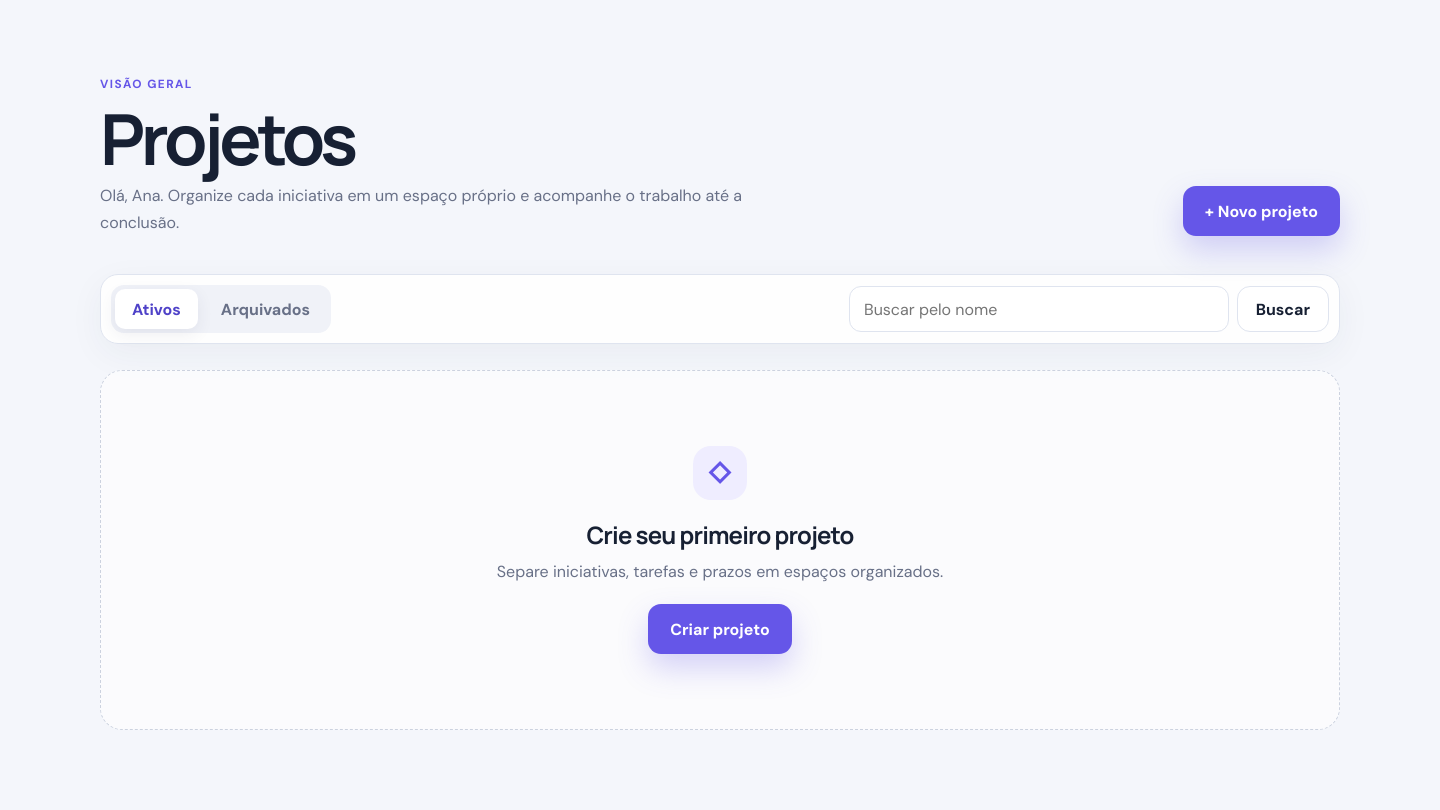
Scenario: ProjectsPage › creates a project and refreshes the list
This screenshot has width=1440, height=810.
Click the button "Criar projeto".
click(720, 630)  # box [648,604,792,654]
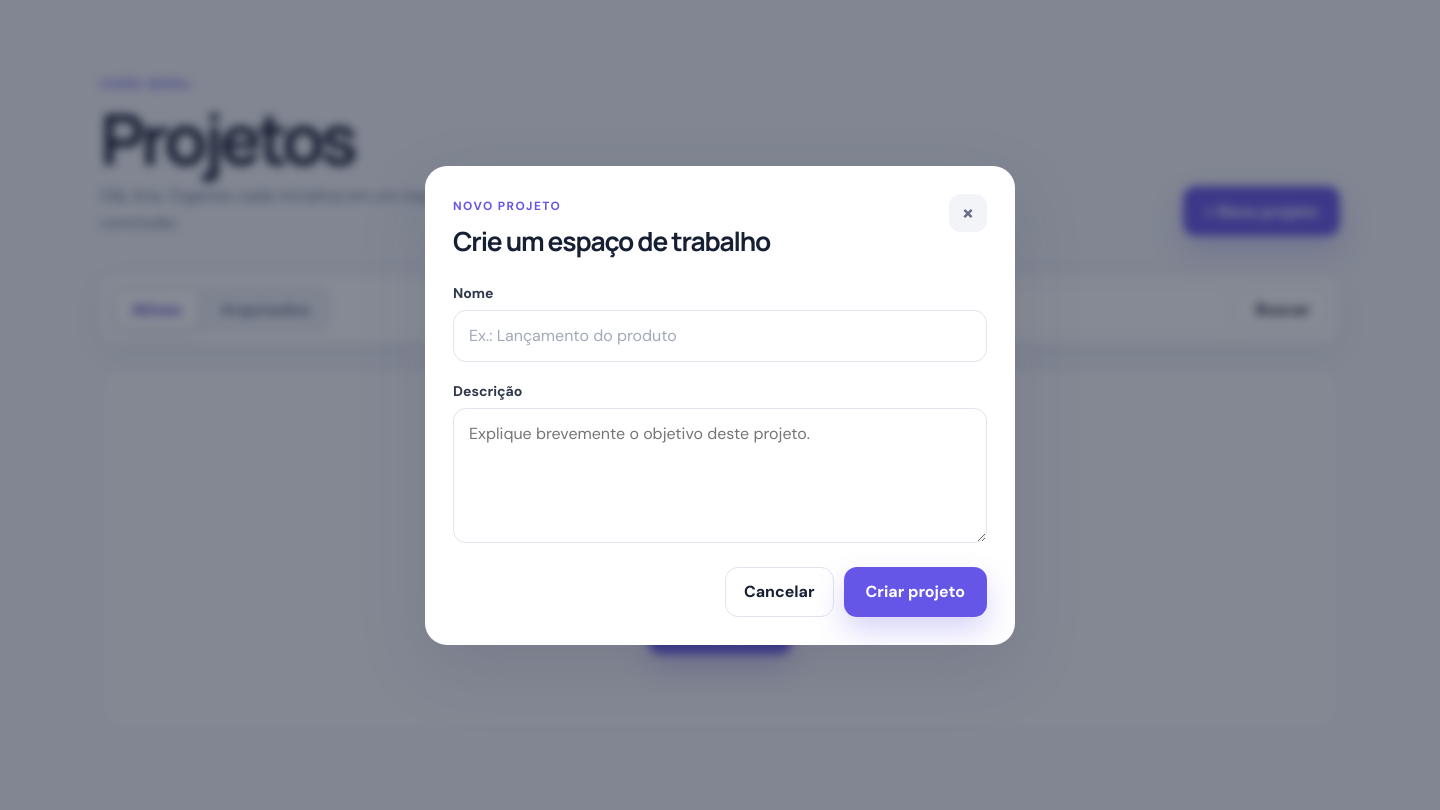
Type "Aplicativo móvel" into the field labelled "Nome".
click(720, 336); type("Aplicativo móvel")  # box [453,310,987,362]
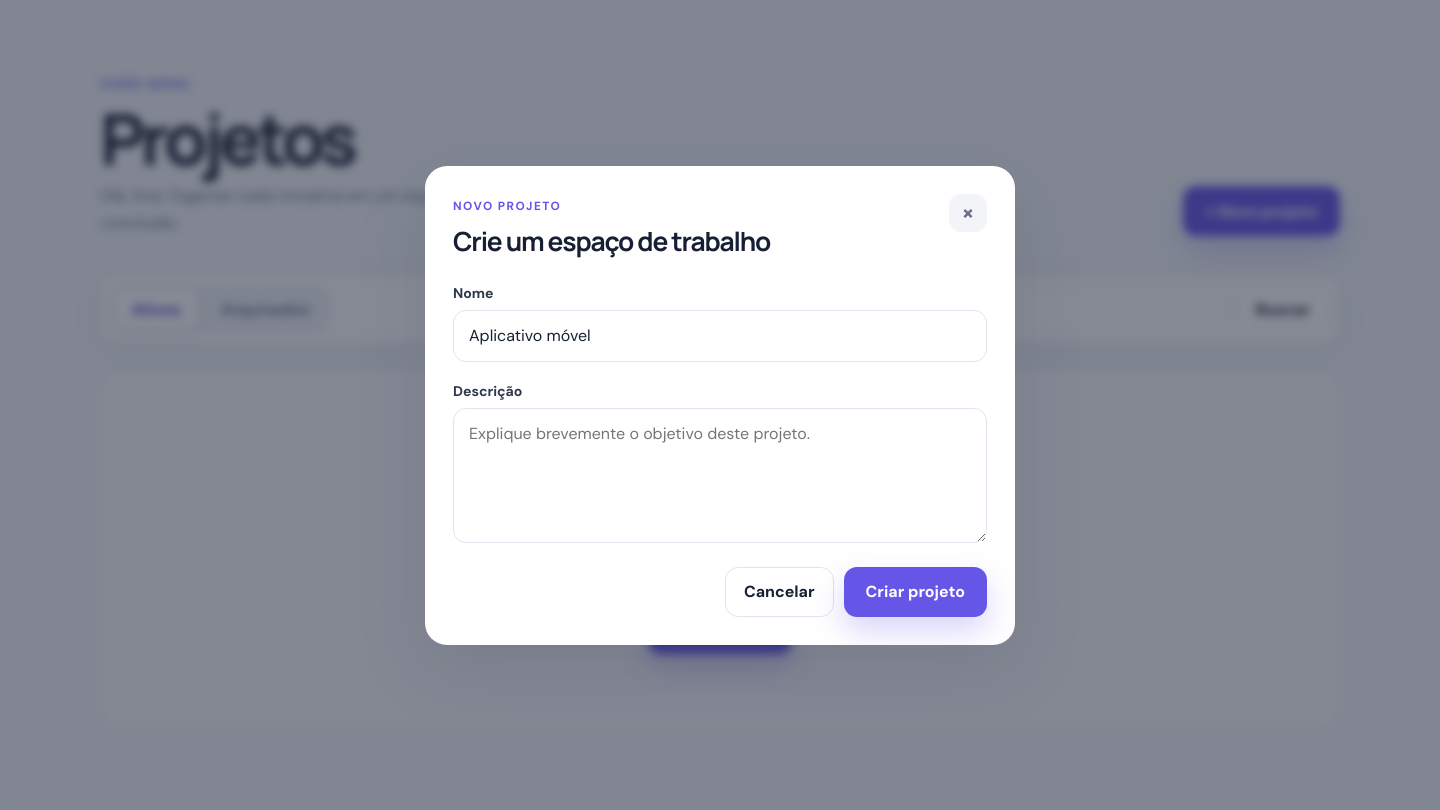
Type "Planejamento do novo aplicativo." into the text box labelled "Descrição".
click(720, 475); type("Planejamento do novo aplicativo.")  # box [453,408,987,542]
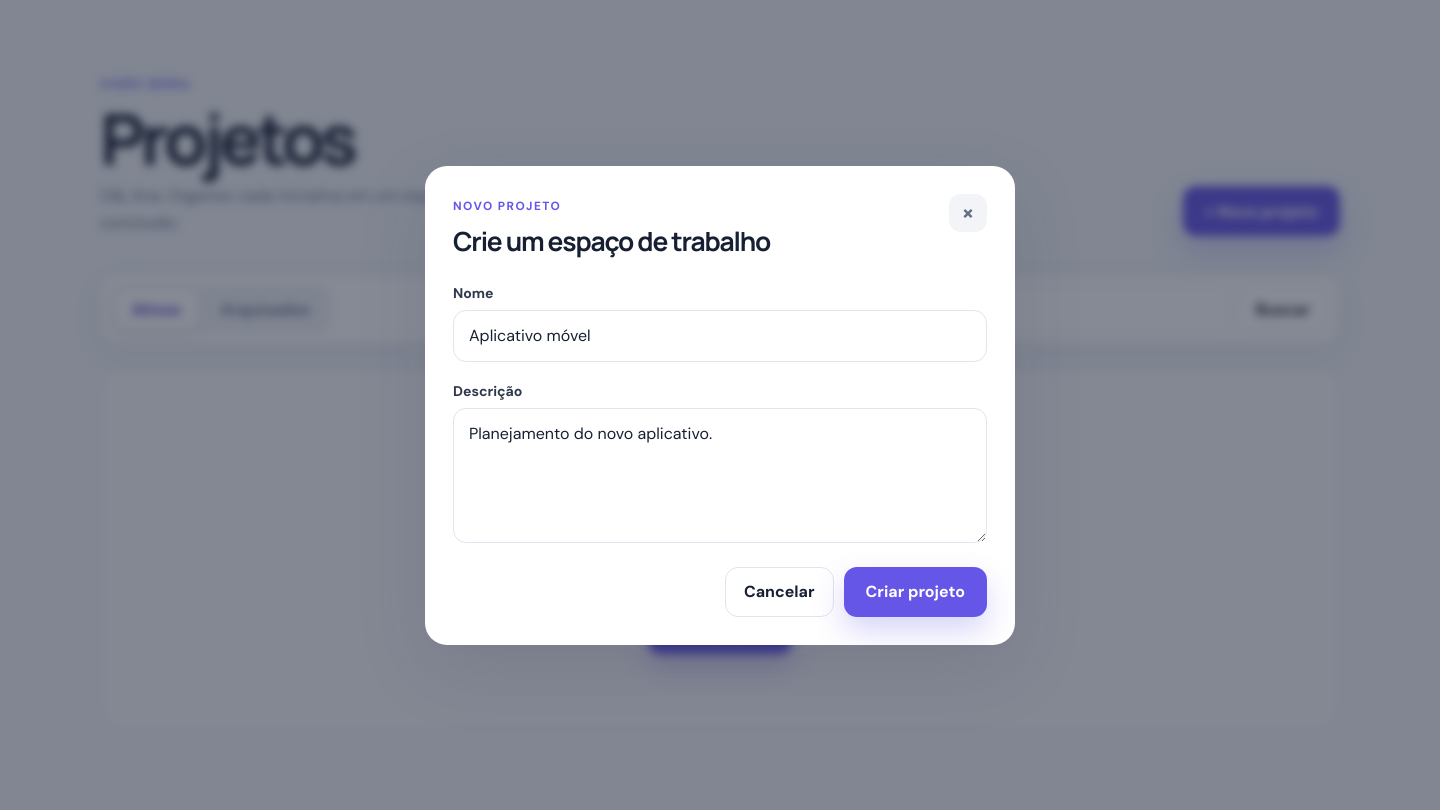
Click the button "Criar projeto".
click(915, 592)  # box [844,566,987,616]
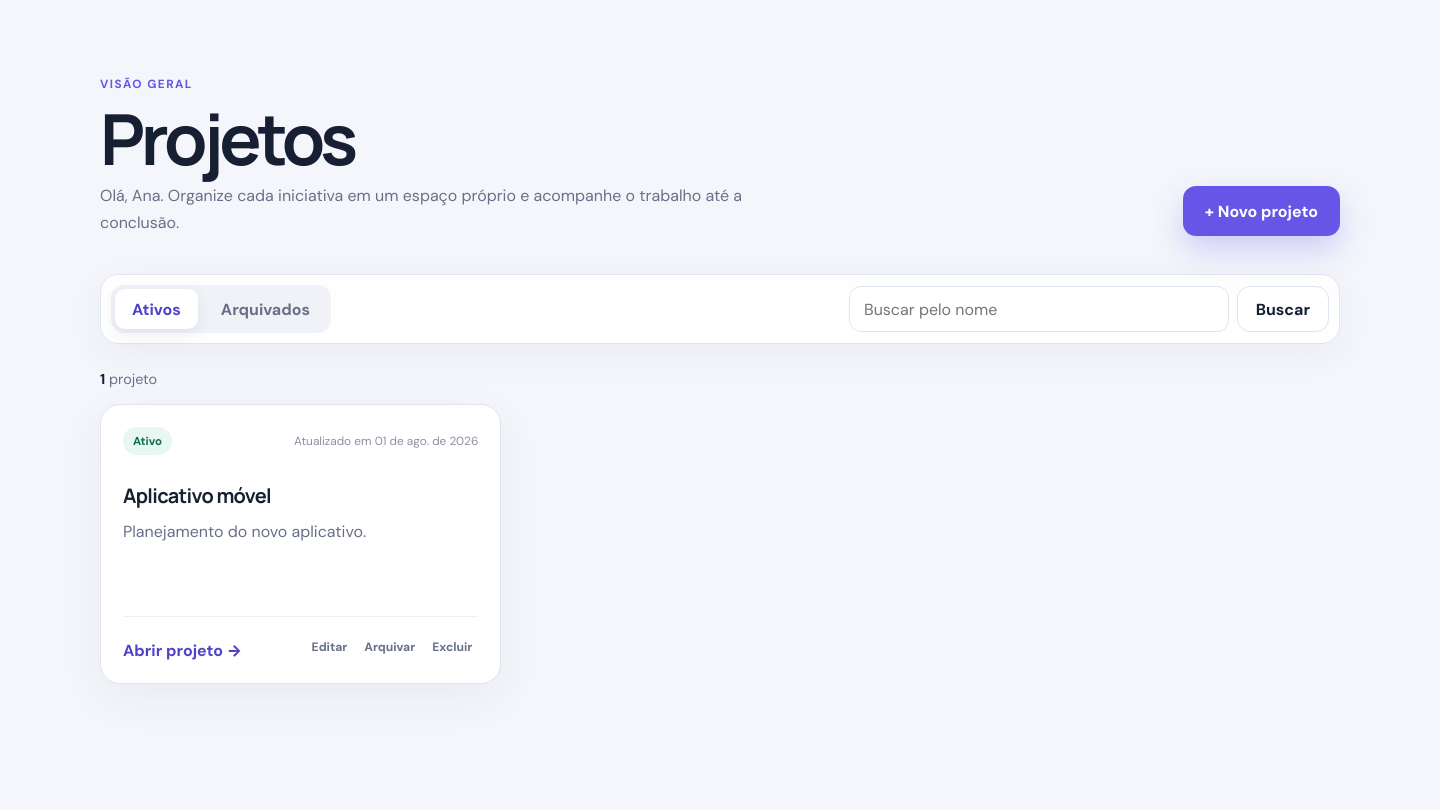
Expected: the heading "Aplicativo móvel" is shown, [123,482,271,509]
